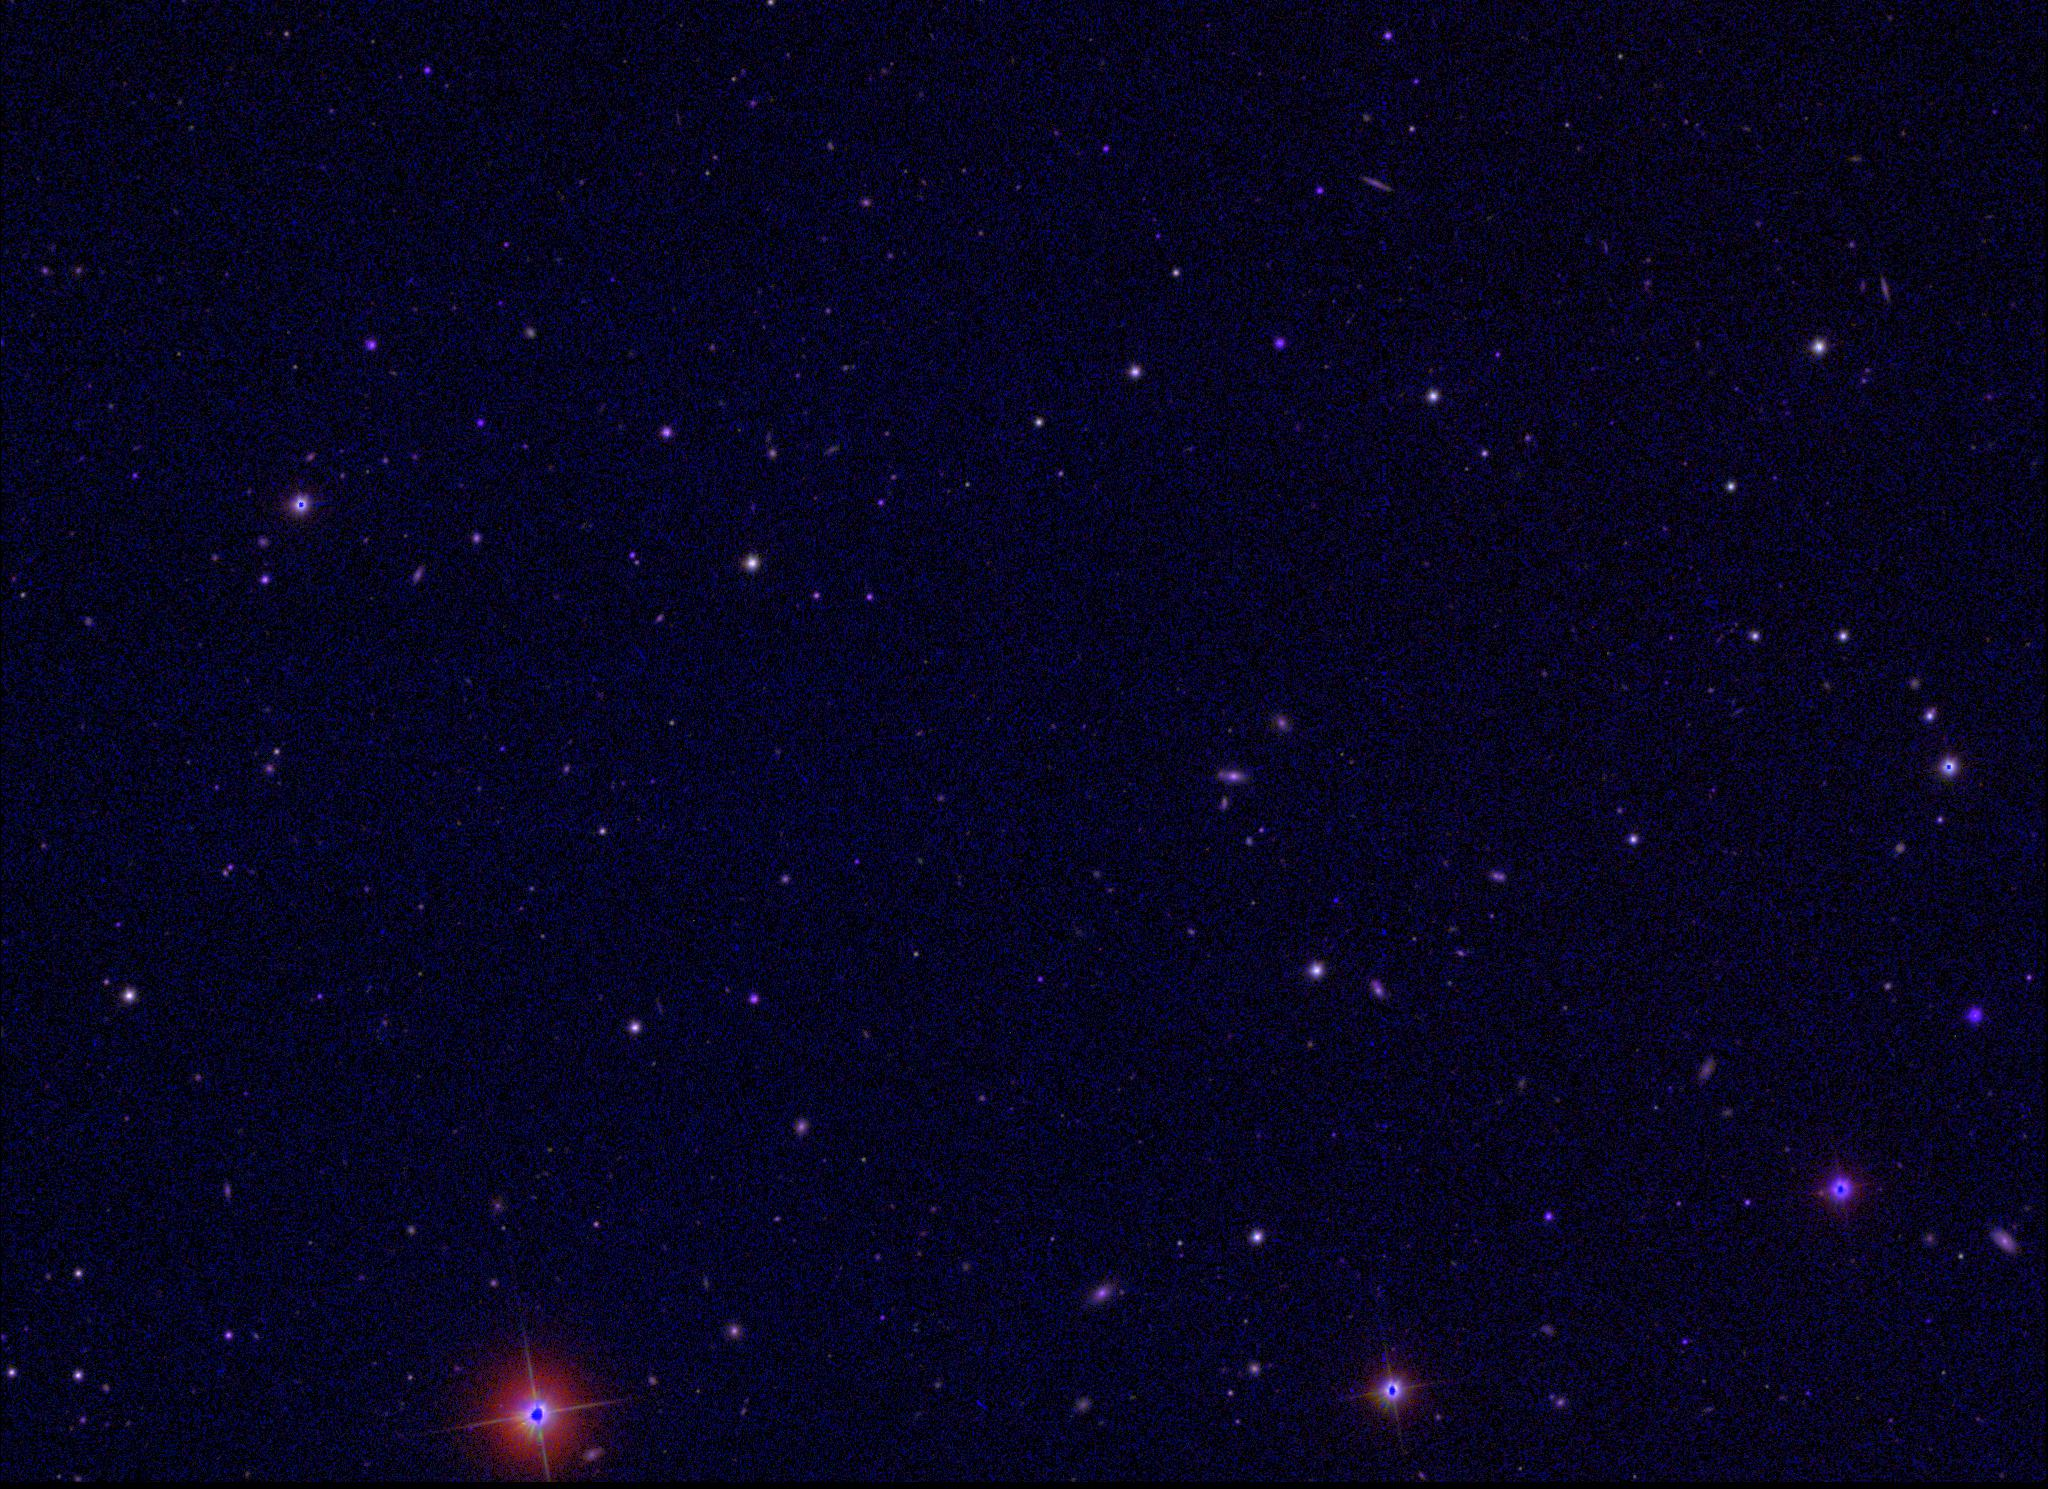L: (1328, 892, 1342, 907)
